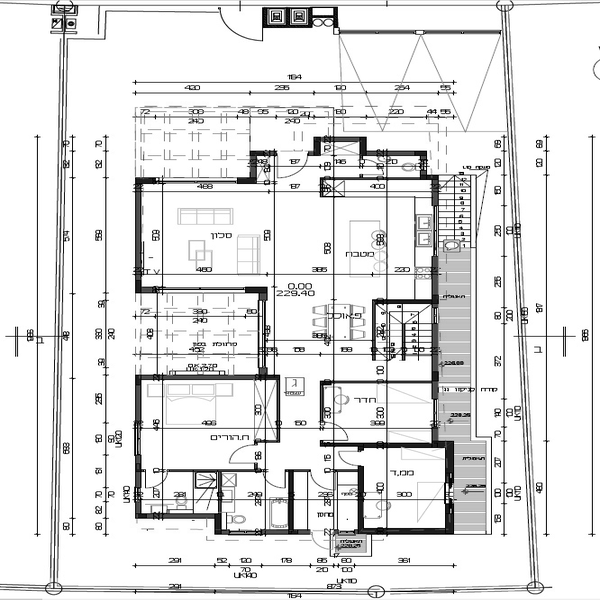door: (274, 149, 314, 180), (312, 414, 353, 441), (260, 459, 291, 494), (222, 442, 262, 465), (307, 527, 335, 553), (306, 472, 333, 494), (340, 444, 364, 467)
room: (316, 124, 443, 306), (249, 284, 441, 392), (133, 169, 270, 303), (131, 368, 285, 474), (340, 434, 460, 535), (317, 369, 437, 451), (363, 292, 438, 368)
wall: (134, 368, 282, 385), (132, 174, 148, 294), (441, 438, 458, 531), (131, 507, 223, 524), (281, 467, 301, 534), (172, 464, 269, 477), (327, 440, 453, 450), (426, 329, 443, 400), (127, 366, 147, 425), (317, 378, 439, 387), (361, 145, 428, 160), (426, 254, 444, 304), (321, 174, 416, 183), (357, 463, 369, 528), (375, 293, 439, 305), (316, 134, 369, 147), (277, 374, 287, 440), (246, 144, 262, 185), (357, 525, 449, 532), (316, 385, 328, 425), (132, 457, 145, 480)
window: (160, 279, 245, 298), (157, 169, 237, 189), (424, 202, 447, 256)
